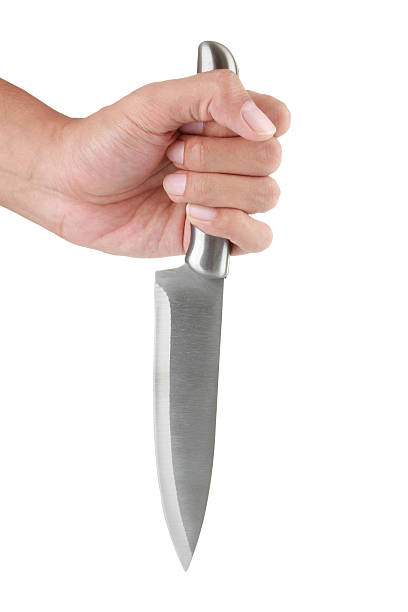knife: (154, 40, 240, 574)
